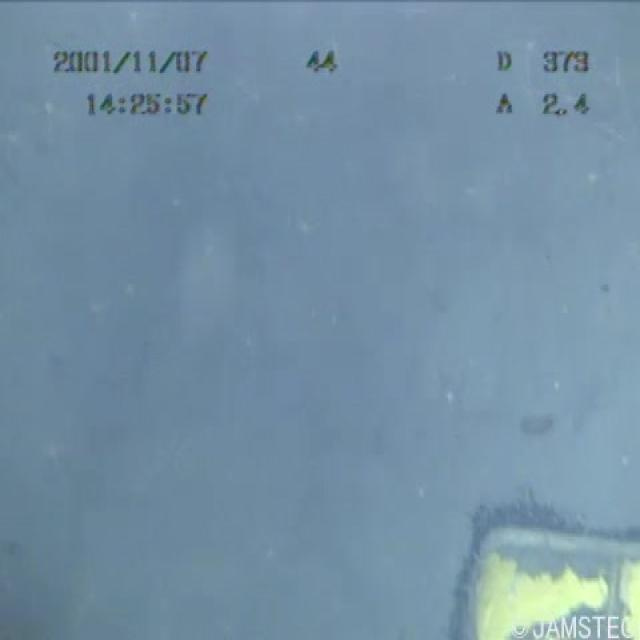plastic: (424, 471, 639, 638)
